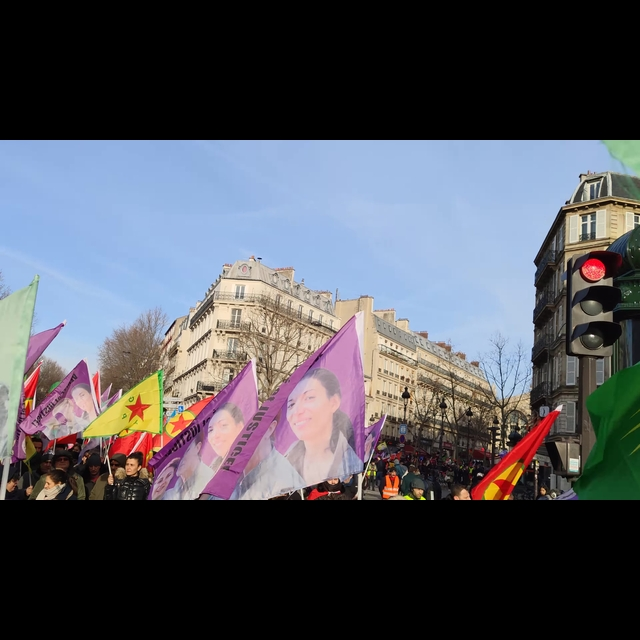YPG: (119, 394, 155, 429)
